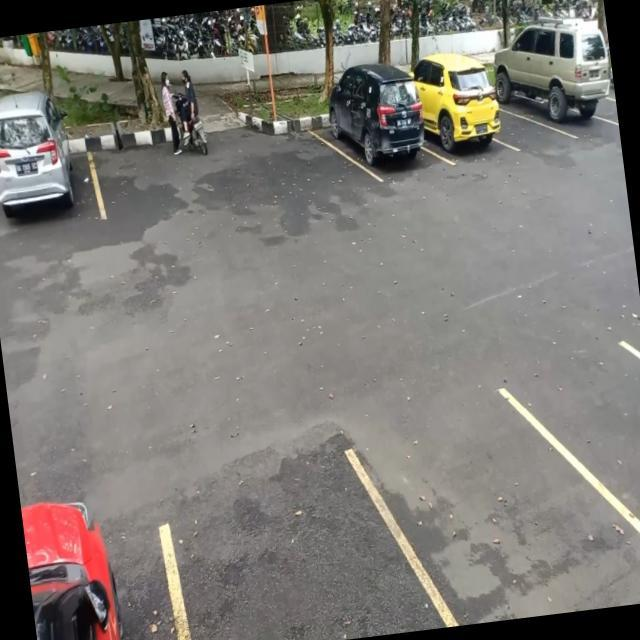occupied: (492, 27, 613, 133), (0, 111, 101, 235), (325, 77, 433, 187), (417, 74, 506, 170)
